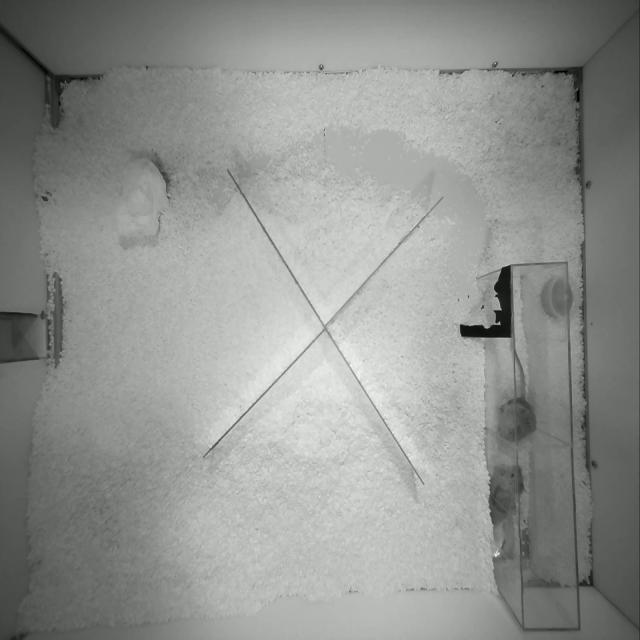adult_front: (489, 468, 523, 525)
pup_h_stripe: (498, 347, 536, 441)
